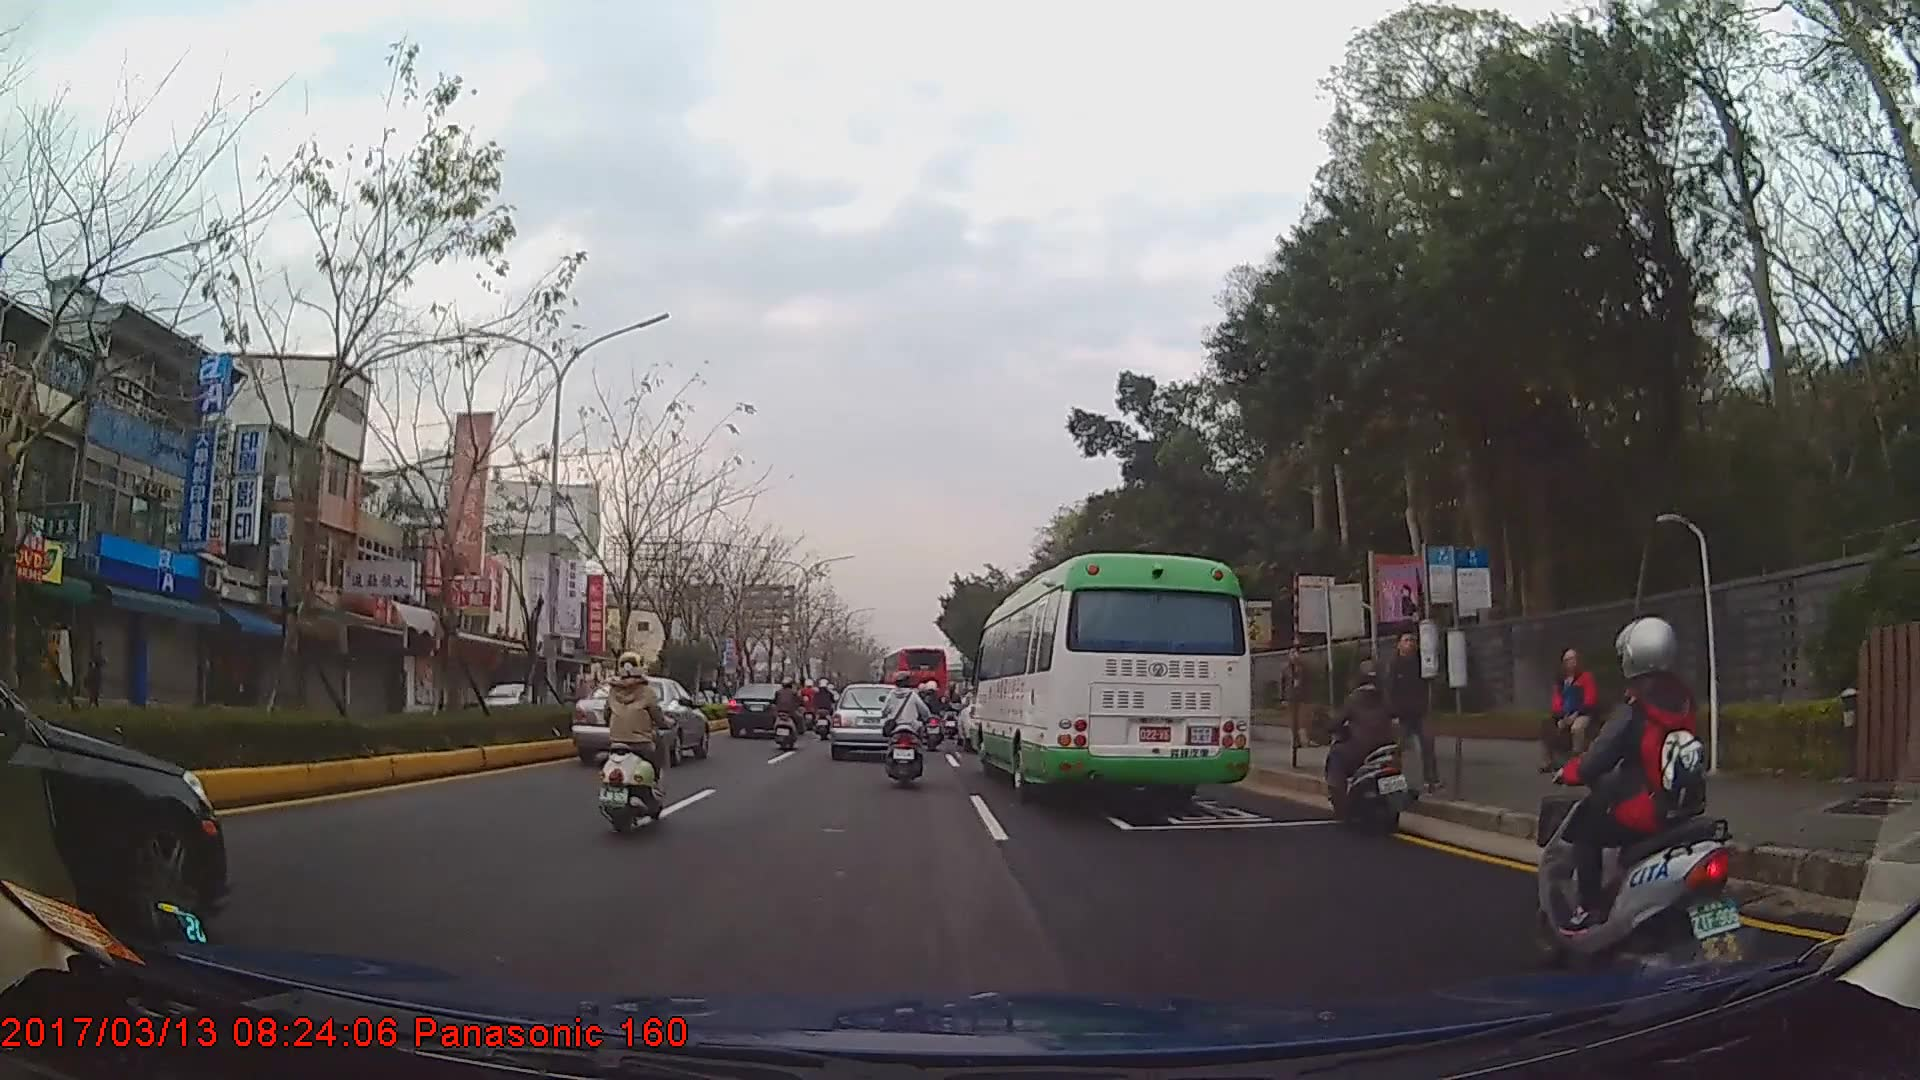pedestrian: (1380, 638, 1436, 797), (1542, 651, 1598, 779), (1273, 648, 1314, 756)
rider: (1540, 618, 1741, 963), (1316, 660, 1415, 844), (599, 653, 676, 842), (881, 676, 932, 792), (775, 679, 807, 755), (814, 679, 837, 743), (922, 681, 948, 737), (801, 679, 821, 732)
vehicle: (968, 552, 1252, 804), (571, 678, 709, 768), (831, 682, 913, 760), (881, 646, 951, 717), (726, 681, 801, 741)
